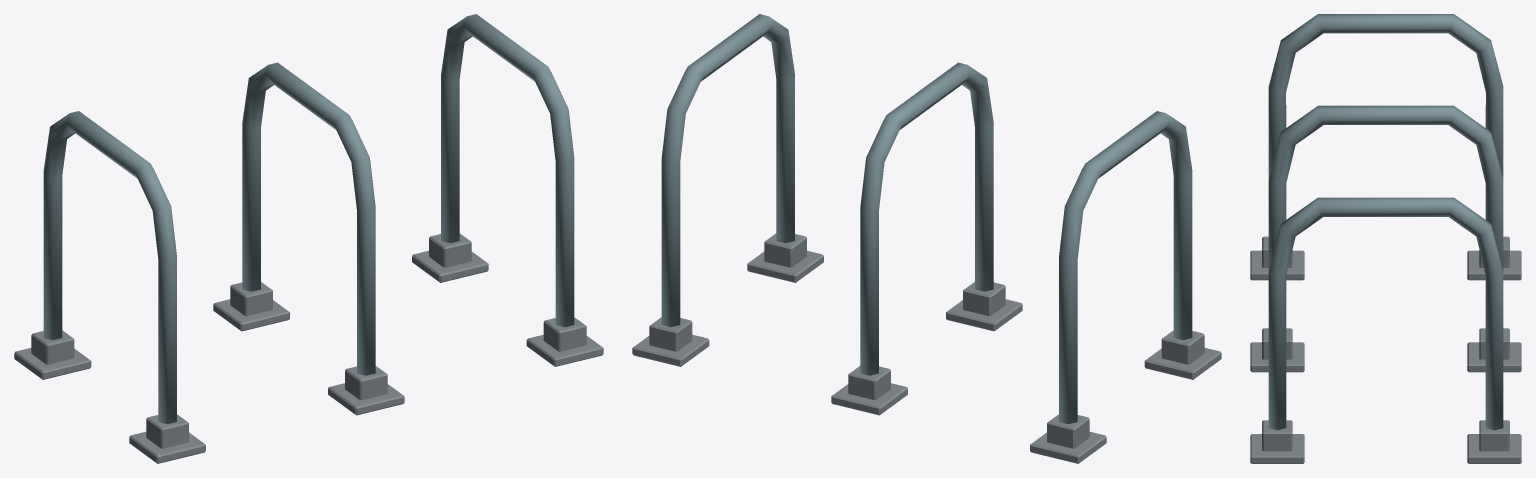
3 renders of one model, left to right at view 1: azimuth 30°, elevation 25°; view 2: azimuth 150°, elevation 25°; view 3: azimuth 270°, elevation 25°, orthographic. The views are drawn at different scales.
Parts seen in each view (by area): view 1: Continuous parking hoop, Continuous parking hoop.002, Continuous parking hoop.001, Local mounting foot.001, Local mounting foot.004, Local mounting foot.005, Local mounting foot.002, Local mounting foot, Local mounting foot.003, Hoop mounting collar.001, Hoop mounting collar.004, Hoop mounting collar.003 (+3 smaller); view 2: Continuous parking hoop.002, Continuous parking hoop, Continuous parking hoop.001, Local mounting foot, Local mounting foot.005, Local mounting foot.004, Local mounting foot.003, Local mounting foot.001, Local mounting foot.002, Hoop mounting collar, Hoop mounting collar.005, Hoop mounting collar.002 (+3 smaller); view 3: Continuous parking hoop.002, Continuous parking hoop.001, Continuous parking hoop, Local mounting foot.004, Local mounting foot.005, Local mounting foot.002, Local mounting foot.003, Local mounting foot, Local mounting foot.001, Hoop mounting collar.004, Hoop mounting collar.005, Hoop mounting collar.002 (+1 smaller).
Boxes of the visible parts, box(x1,y1,x2,y2) form: Continuous parking hoop: box(43, 111, 176, 424); Continuous parking hoop.002: box(441, 14, 574, 327); Continuous parking hoop.001: box(242, 62, 375, 375); Local mounting foot.001: box(14, 348, 91, 379); Local mounting foot.004: box(526, 334, 603, 366); Local mounting foot.005: box(412, 250, 488, 282); Local mounting foot.002: box(328, 383, 404, 415); Local mounting foot: box(129, 431, 205, 463); Local mounting foot.003: box(213, 299, 289, 331); Hoop mounting collar.001: box(31, 330, 74, 364); Hoop mounting collar.004: box(543, 317, 586, 351); Hoop mounting collar.003: box(230, 282, 272, 316); Continuous parking hoop.002: box(661, 14, 794, 327); Continuous parking hoop: box(1059, 111, 1192, 424); Continuous parking hoop.001: box(860, 62, 993, 375); Local mounting foot: box(1144, 348, 1221, 379); Local mounting foot.005: box(632, 334, 709, 366); Local mounting foot.004: box(747, 250, 823, 282); Local mounting foot.003: box(831, 383, 907, 415); Local mounting foot.001: box(1030, 431, 1106, 463); Local mounting foot.002: box(946, 299, 1022, 331); Hoop mounting collar: box(1161, 330, 1204, 364); Hoop mounting collar.005: box(649, 317, 692, 351); Hoop mounting collar.002: box(963, 282, 1005, 316); Continuous parking hoop.002: box(1268, 197, 1503, 430); Continuous parking hoop.001: box(1268, 105, 1503, 288); Continuous parking hoop: box(1268, 14, 1503, 196); Local mounting foot.004: box(1250, 434, 1304, 463); Local mounting foot.005: box(1467, 434, 1521, 463); Local mounting foot.002: box(1250, 342, 1304, 372); Local mounting foot.003: box(1467, 342, 1521, 372); Local mounting foot: box(1250, 250, 1304, 280); Local mounting foot.001: box(1467, 250, 1521, 280); Hoop mounting collar.004: box(1262, 420, 1292, 451); Hoop mounting collar.005: box(1479, 420, 1509, 451); Hoop mounting collar.002: box(1262, 328, 1292, 359).
Size of the model in its own units: 1.35 by 0.7729 by 0.75.
